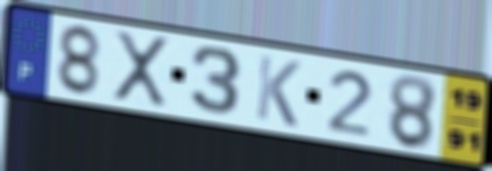2: (325, 68, 376, 139)
3: (187, 44, 246, 118)
8: (386, 70, 440, 153), (55, 23, 104, 98)
K: (252, 52, 303, 130)
X: (112, 28, 171, 109)
